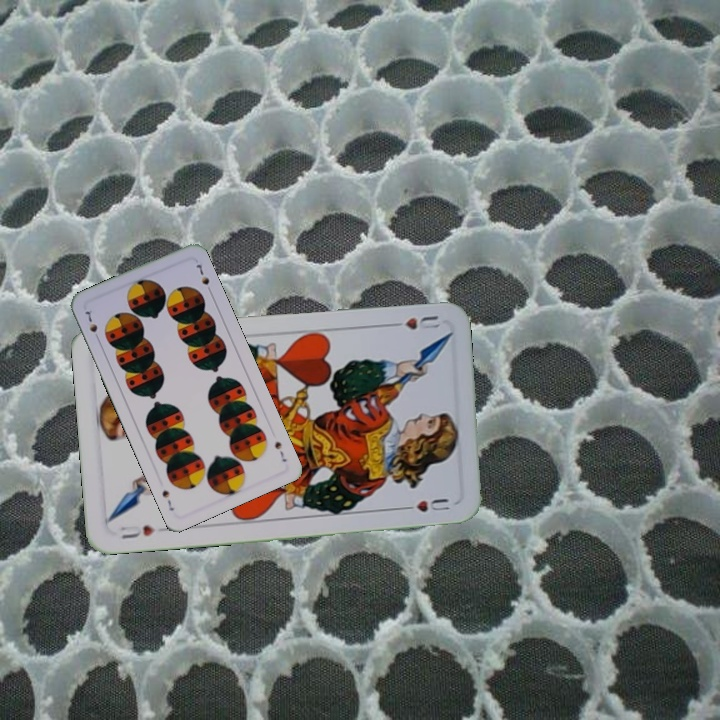HU: (385, 312, 442, 333), (116, 521, 157, 542)
S7: (81, 307, 102, 344), (271, 437, 290, 465)
